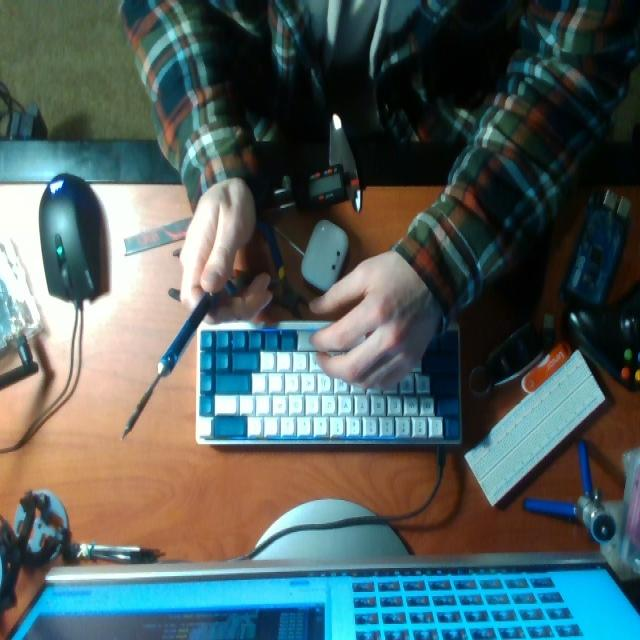keyboard-with-hands: (198, 324, 463, 443)
